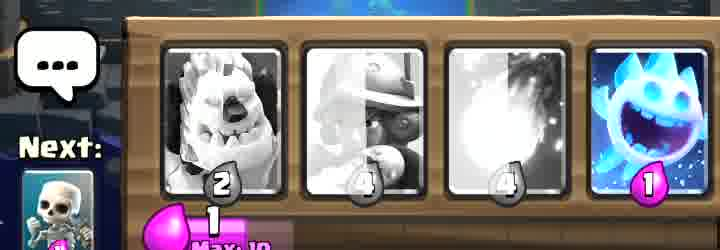ice-golem: (167, 52, 277, 197)
ice-spirit: (595, 45, 711, 200)
skeleton: (24, 171, 93, 250)
